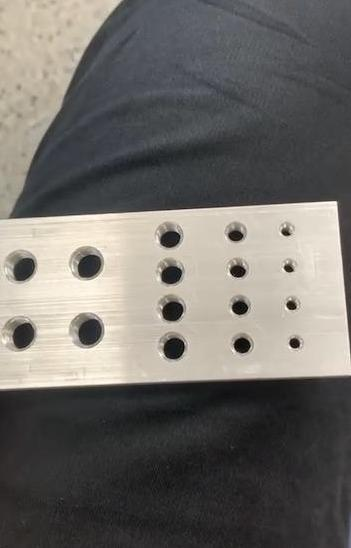hole: (0, 246, 48, 291), (66, 310, 110, 354), (66, 242, 108, 284), (0, 314, 40, 356), (153, 218, 189, 254), (155, 333, 192, 364), (155, 294, 190, 326), (154, 258, 190, 288), (226, 293, 258, 320), (222, 220, 252, 246), (228, 332, 256, 359), (224, 256, 253, 282), (276, 218, 300, 241), (280, 256, 302, 278), (283, 295, 303, 317), (286, 332, 304, 354)
